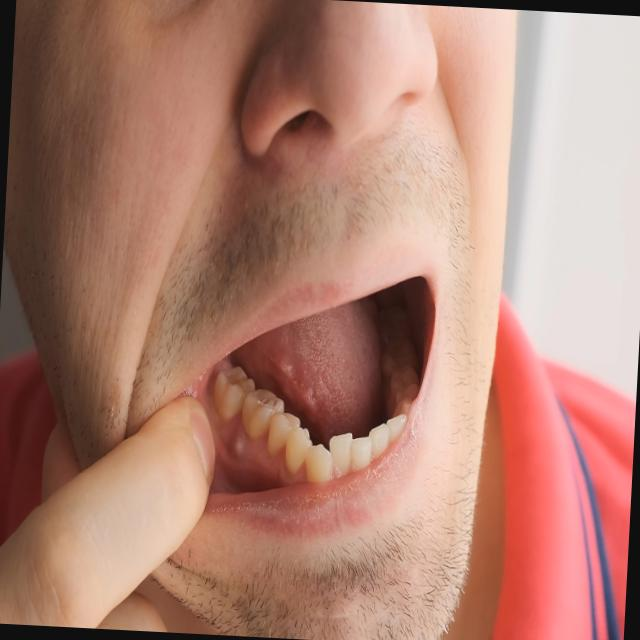abscess: (224, 435, 254, 466)
